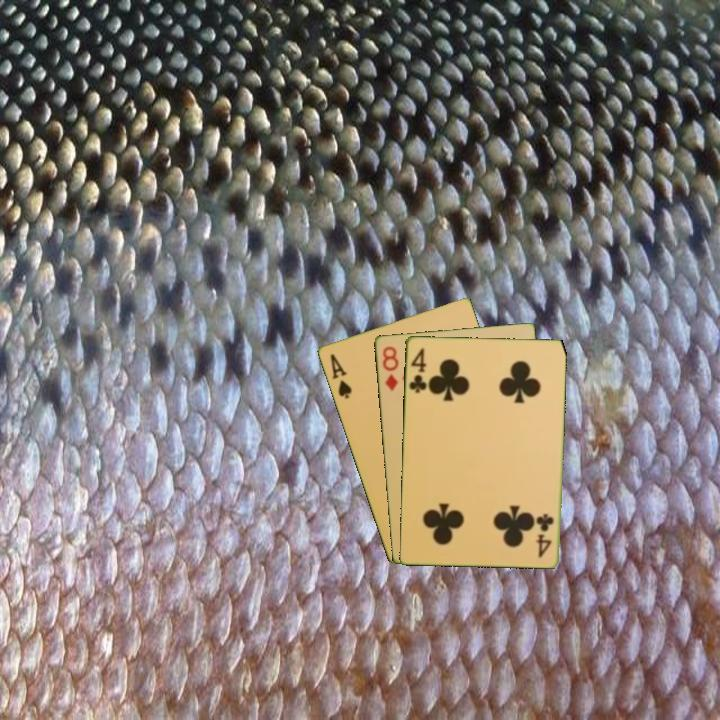4c: (405, 344, 429, 395), (535, 510, 556, 560)
8d: (379, 342, 401, 394)
As: (326, 350, 354, 402)
